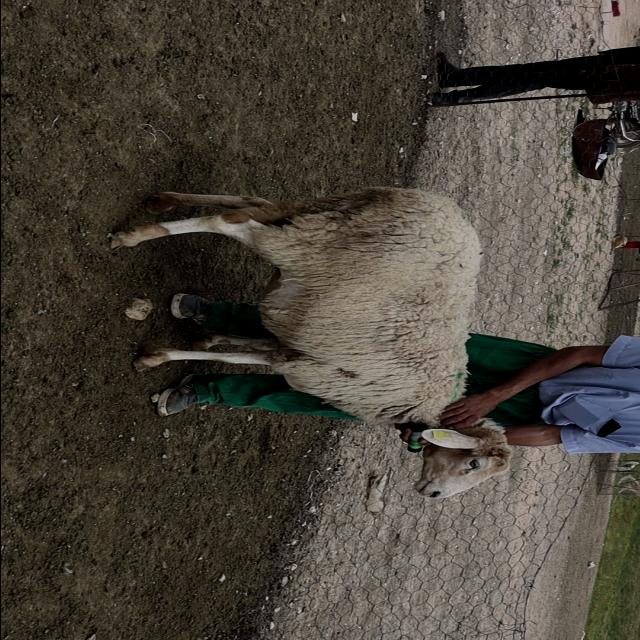Score_5: (110, 187, 510, 498)
